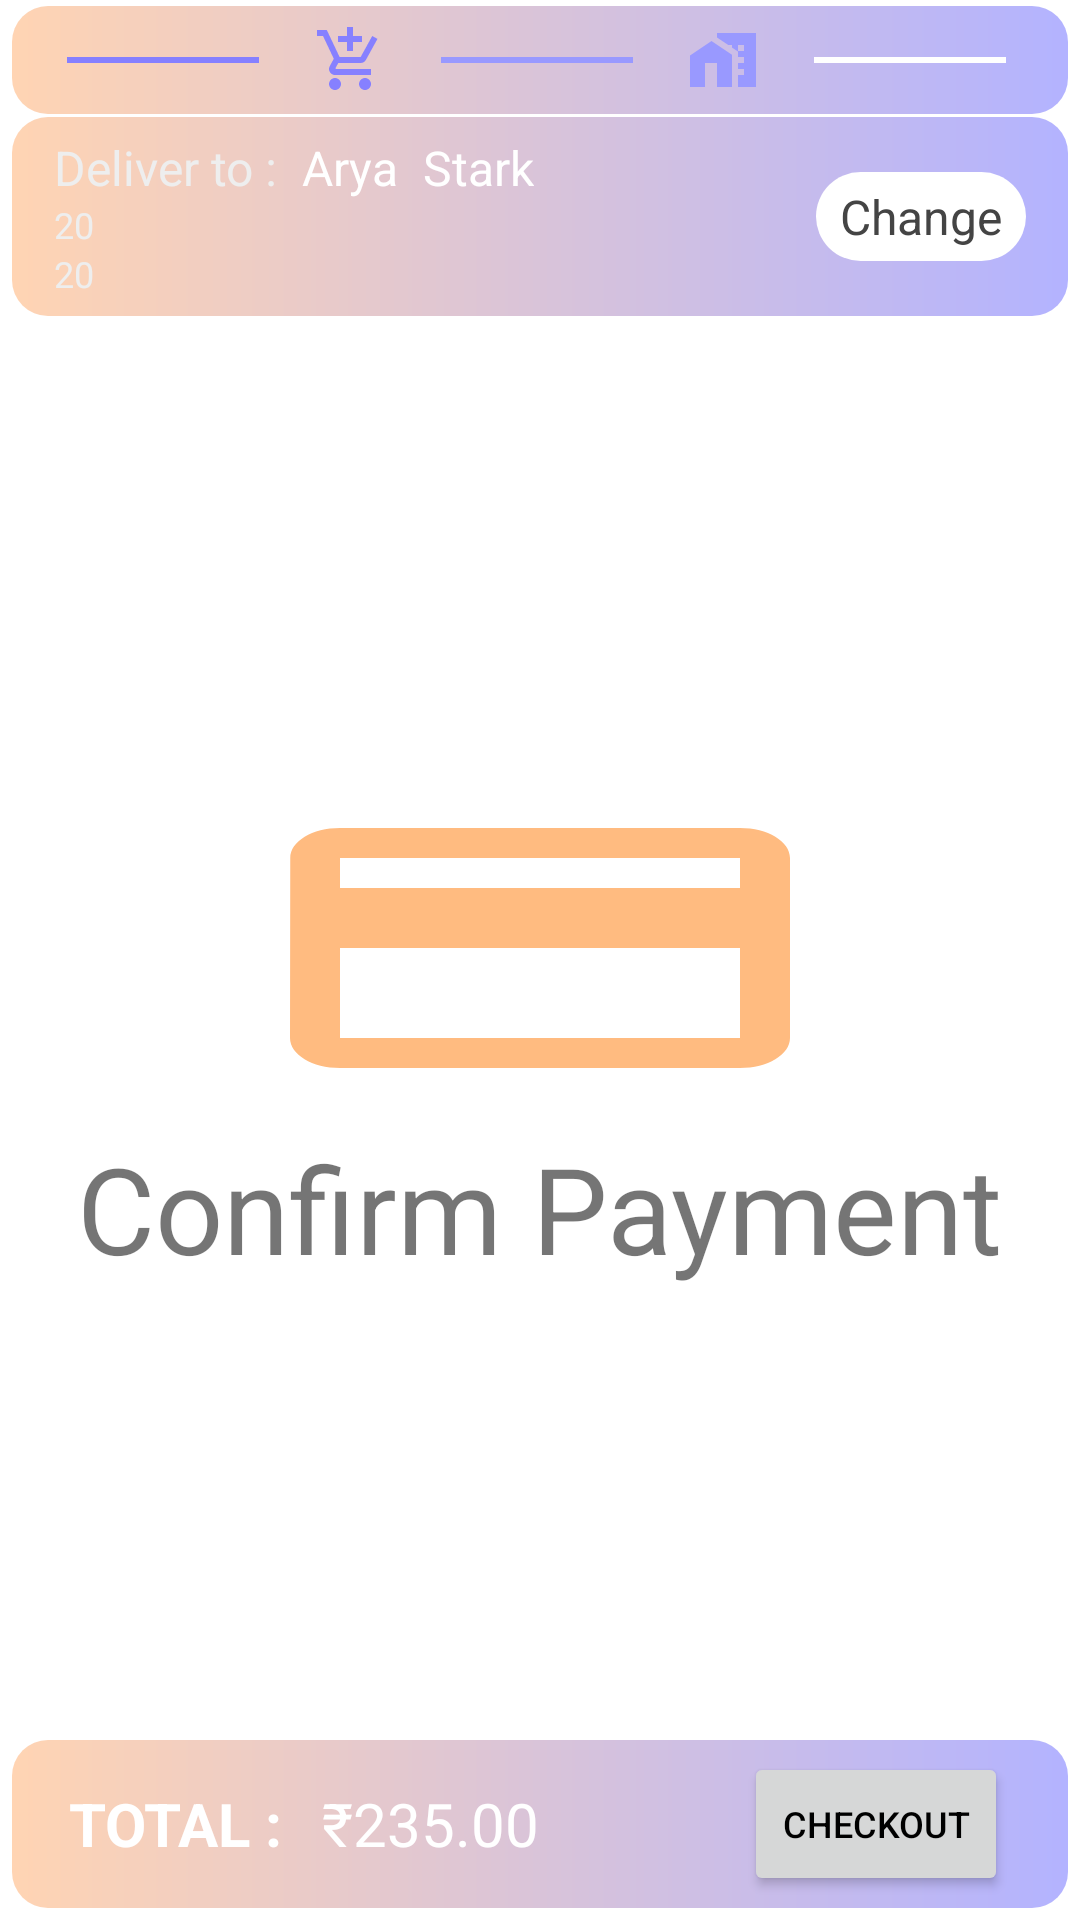

Icons on this 1080 x 1920 Android screen, each with the point to tap as (x=x, y=y):
address select: (x=723, y=60)
cart added: (x=347, y=58)
